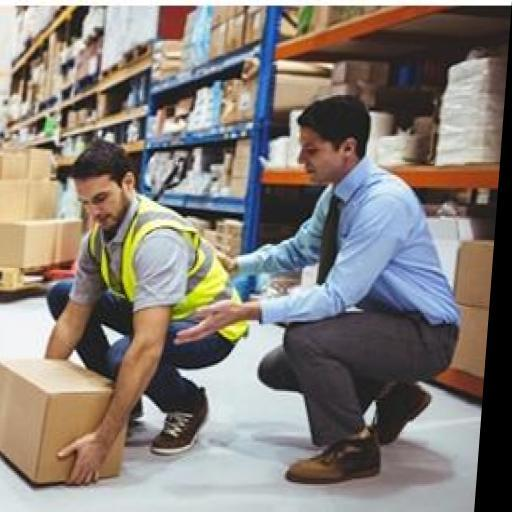safety_boots: (280, 450, 378, 490), (148, 413, 198, 460)
